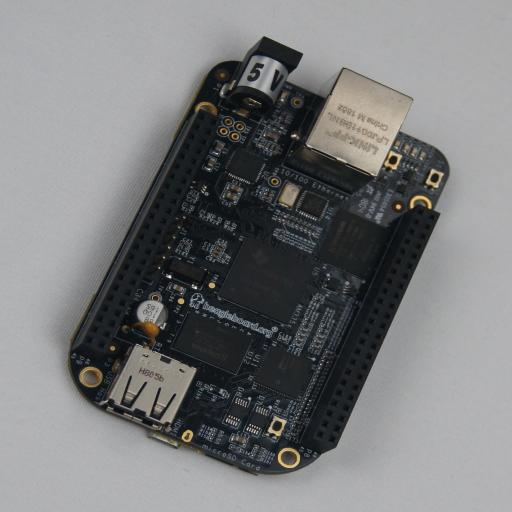Beaglebone Black: (68, 36, 450, 476)
